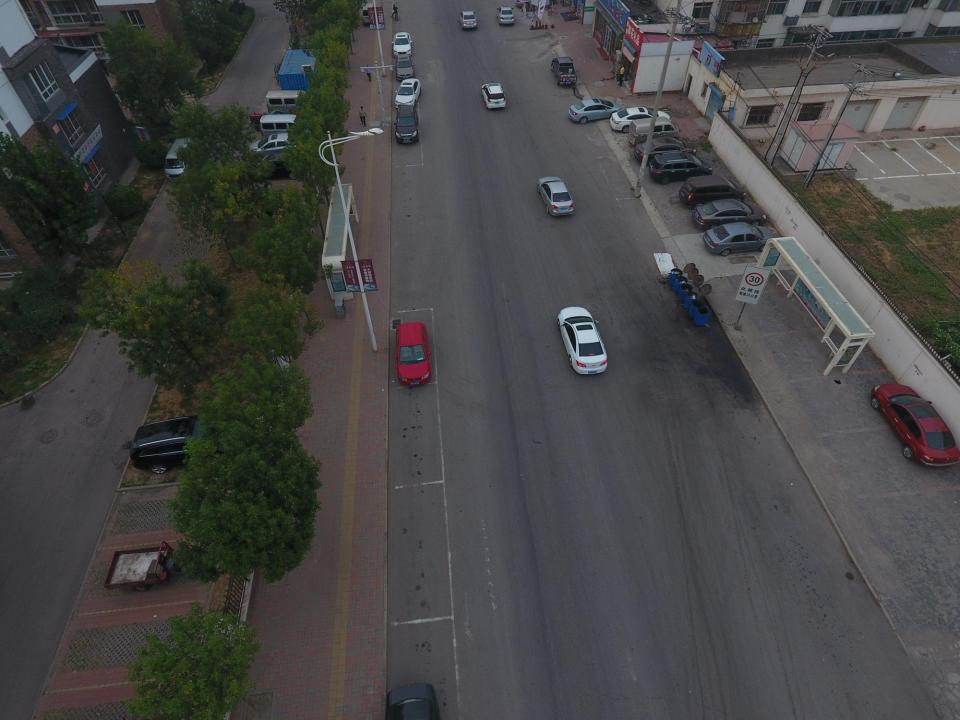car: (870, 383, 960, 466), (128, 415, 250, 476), (556, 304, 608, 376), (243, 131, 323, 165), (393, 319, 430, 386), (703, 222, 774, 256), (693, 199, 768, 230), (650, 154, 715, 185), (385, 683, 440, 717), (536, 176, 575, 216), (610, 107, 672, 132), (634, 137, 698, 160), (568, 98, 622, 123), (395, 104, 420, 144), (394, 78, 422, 108), (481, 82, 506, 109), (394, 53, 415, 79), (393, 32, 413, 55), (496, 6, 514, 26), (459, 10, 477, 28)
truck: (550, 56, 579, 86)
van: (679, 175, 746, 204), (628, 116, 681, 146), (164, 135, 198, 181), (266, 89, 314, 112), (260, 113, 311, 134), (361, 2, 378, 26)
